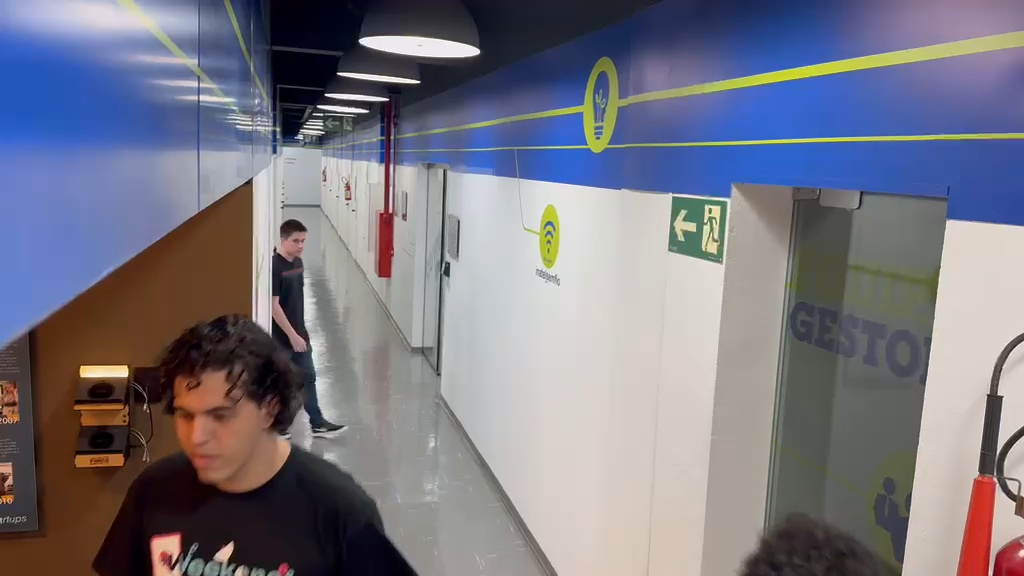person: (91, 314, 417, 571), (272, 216, 346, 437), (739, 513, 892, 575)
